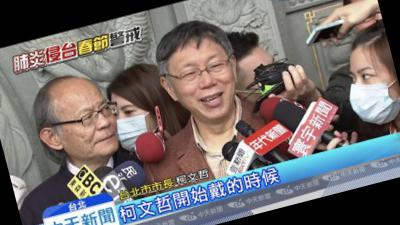with_mask: (341, 58, 400, 129), (108, 97, 162, 157)
without_mask: (167, 47, 245, 130), (49, 95, 124, 171)
